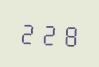eight: (59, 20, 78, 48)
two: (18, 18, 37, 46), (39, 19, 58, 47)
